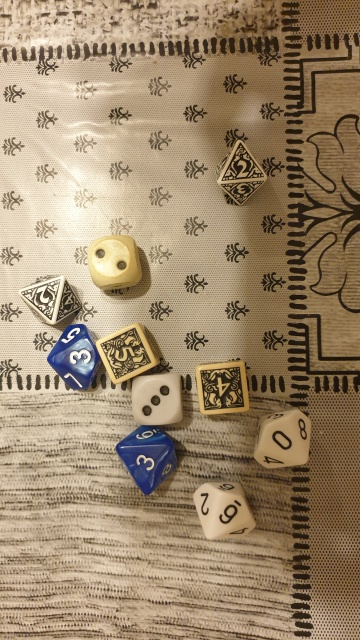d10-10: (247, 403, 316, 479)
d10-3: (113, 422, 182, 502), (36, 320, 101, 393)
d10-6: (187, 470, 260, 551)
d6-2: (80, 229, 148, 290)
d6-3: (128, 372, 186, 431)
d6p-4: (195, 360, 252, 417)
d6p-5: (92, 321, 159, 382)
d8p-2: (210, 137, 272, 208), (16, 272, 81, 323)
